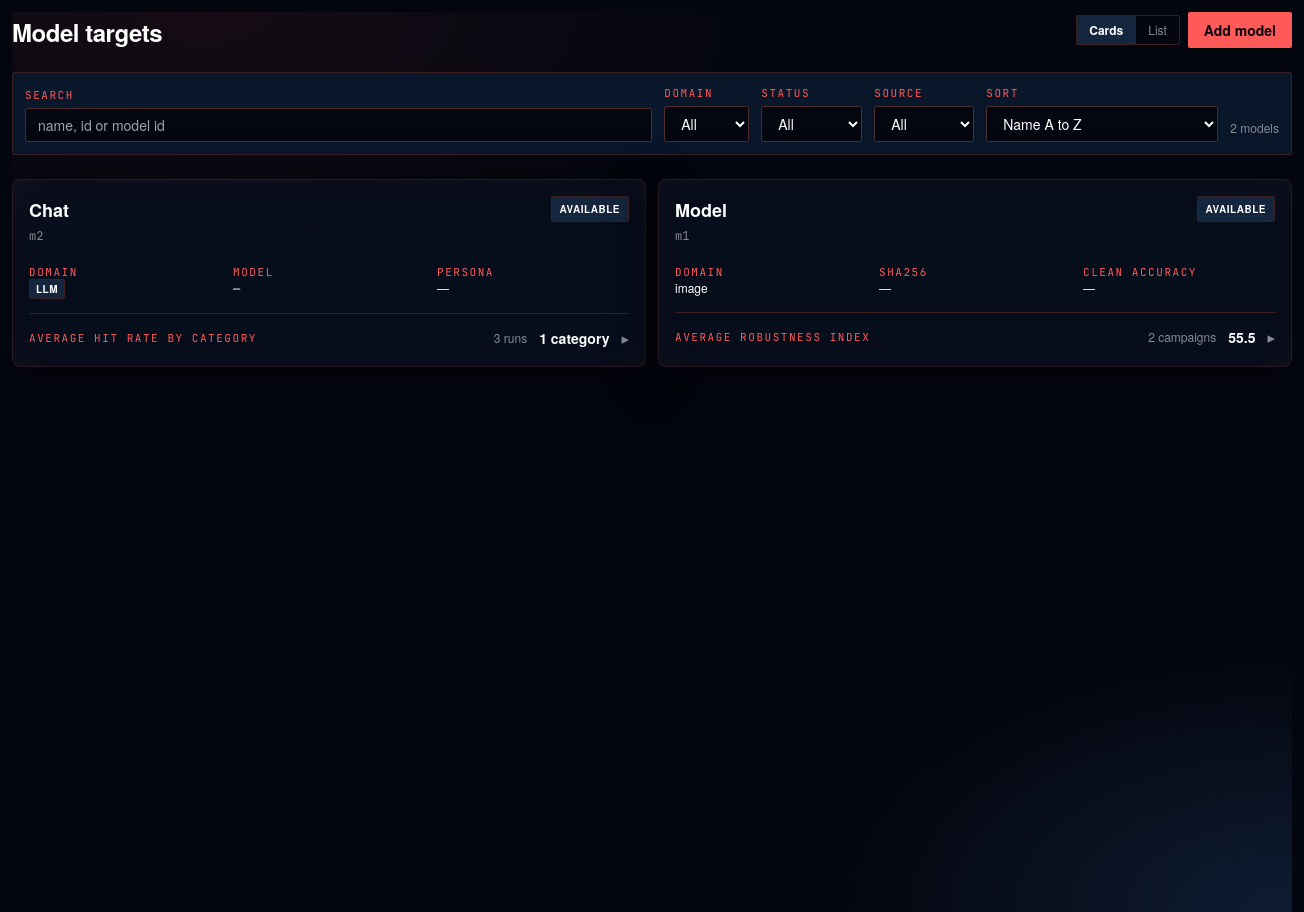
Scenario: /models › shows the average score by category when the model has scored campaigns
Expected: the number of elements with test id "score-summary" is 2, [29,313,629,350]; [675,312,1275,349]
Expected: the element with test id "score-summary" does not show "Accuracy under attack"
Click the button "average robustness index 2 campaigns 55.5 ▸": x=773, y=337 [675,325,1275,349]
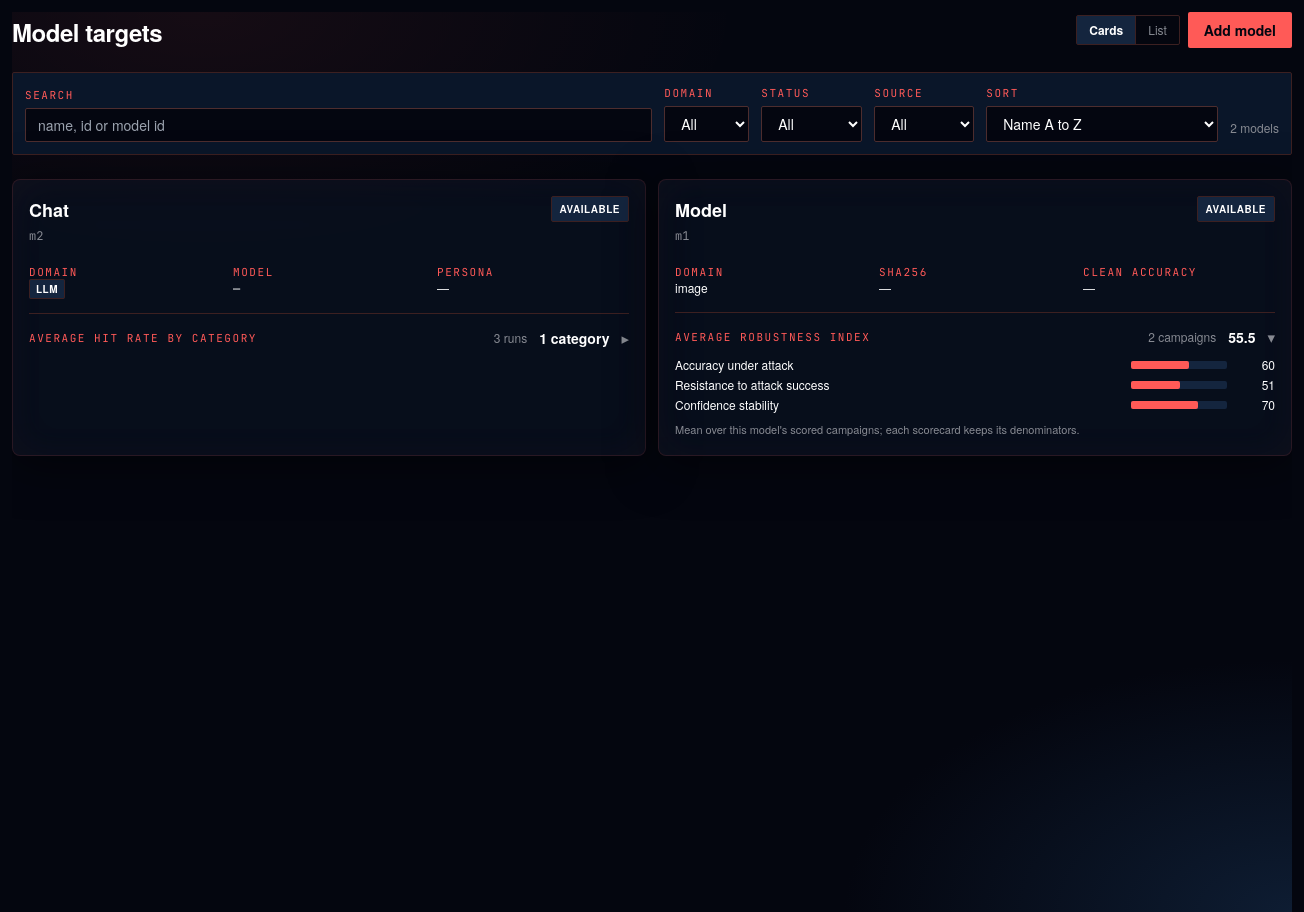
Expected: the element with test id "score-summary" does not show "30%"
Now the element with test id "score-summary" shows "Accuracy under attack", box [675,356,794,373]
Click the button "average hit rate by category 3 runs 1 category ▸": x=143, y=338 [29,326,629,350]
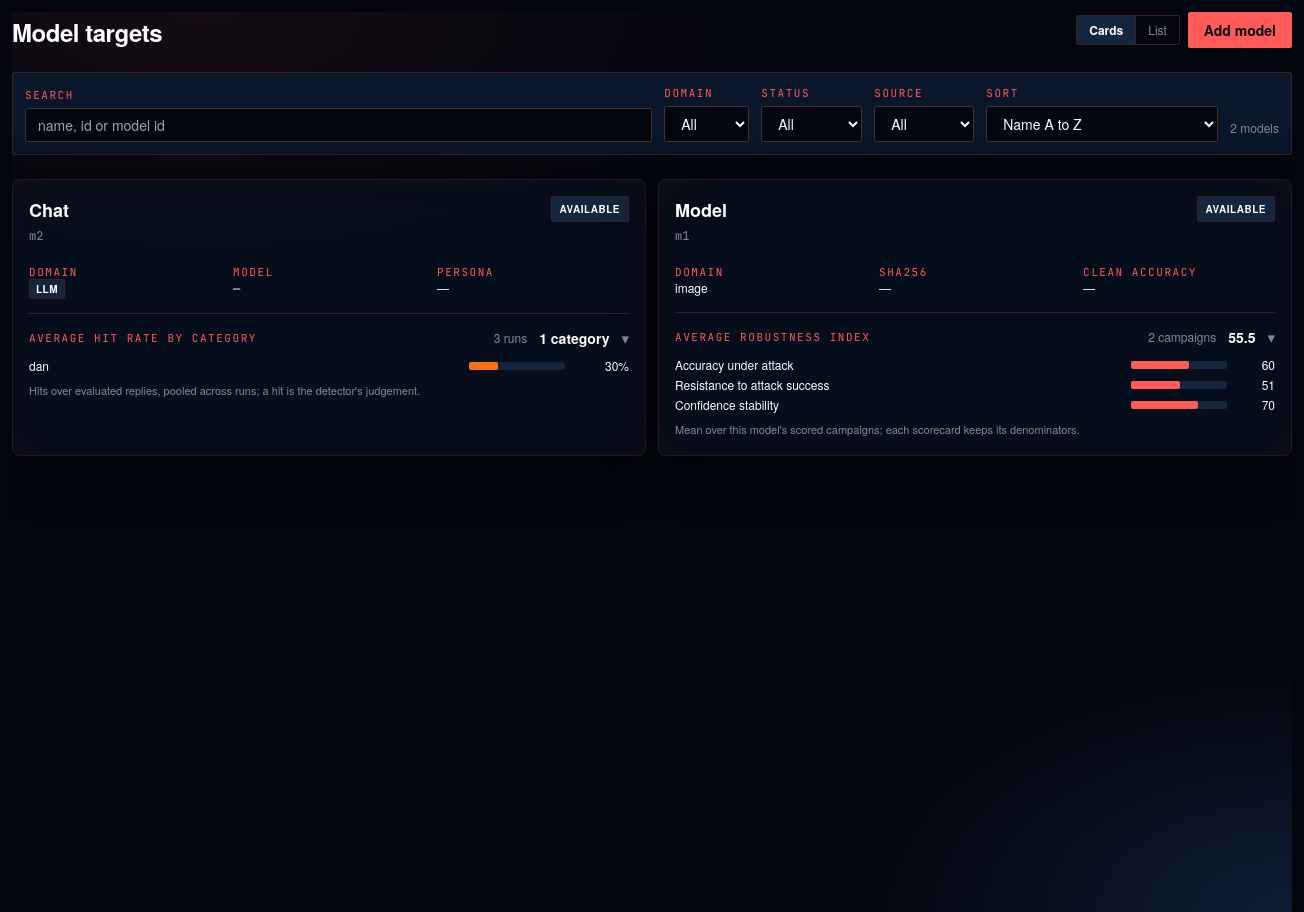
Now the element with test id "score-summary" shows "dan", box [29,357,49,374]
Now the element with test id "score-summary" shows "30%", box [29,313,629,400]
